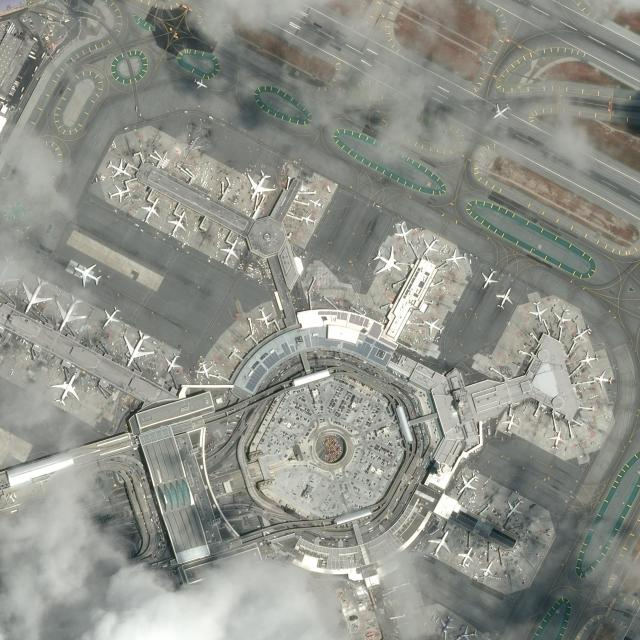1: (457, 624, 479, 640)
aircraft: (19, 274, 51, 314), (122, 328, 154, 367), (54, 293, 86, 332), (50, 372, 80, 406), (244, 169, 276, 200), (371, 246, 402, 274), (426, 529, 452, 559), (71, 264, 103, 288), (217, 237, 241, 266), (166, 210, 188, 238), (138, 198, 160, 224), (105, 158, 132, 178), (442, 248, 468, 268), (101, 304, 121, 330), (393, 219, 413, 244), (494, 288, 516, 310), (456, 472, 478, 494), (478, 267, 499, 289), (551, 305, 571, 328), (570, 325, 592, 345), (591, 370, 613, 390), (194, 357, 214, 379), (106, 184, 130, 202), (546, 430, 566, 451), (436, 612, 455, 634), (420, 236, 440, 256), (455, 547, 475, 567), (162, 352, 182, 372), (528, 299, 546, 321), (505, 497, 523, 519), (420, 318, 444, 334), (578, 350, 599, 368), (255, 307, 273, 327), (490, 104, 512, 120), (501, 414, 518, 434), (478, 560, 496, 578), (307, 196, 325, 210), (192, 76, 207, 90), (300, 212, 316, 225)
